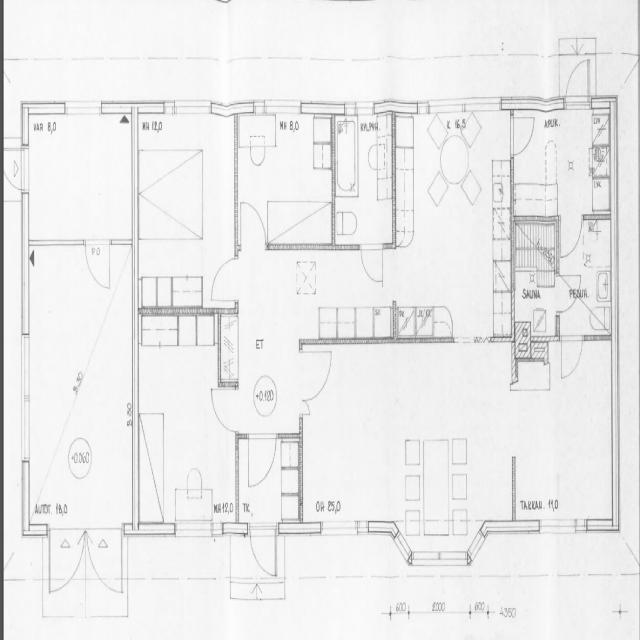door: (247, 431, 279, 576), (298, 340, 336, 405), (244, 430, 279, 490), (247, 518, 280, 578), (236, 192, 270, 250), (562, 54, 594, 111), (208, 251, 241, 306), (507, 106, 538, 160), (82, 236, 113, 290), (209, 383, 239, 432), (358, 239, 387, 288), (4, 143, 30, 194), (558, 332, 585, 381), (557, 212, 584, 260), (554, 272, 580, 316)
window: (409, 544, 472, 572), (423, 94, 492, 116), (388, 522, 417, 570), (511, 92, 562, 115), (317, 516, 363, 539), (465, 521, 489, 565), (167, 97, 211, 119), (173, 518, 215, 540), (537, 516, 580, 537), (264, 96, 304, 117), (343, 96, 377, 120), (63, 98, 103, 118)
zone: (22, 240, 140, 538), (393, 104, 512, 339), (136, 312, 236, 531), (136, 108, 237, 309), (512, 346, 616, 529), (22, 110, 138, 242), (235, 108, 333, 248), (511, 104, 614, 216), (333, 109, 395, 248), (234, 326, 302, 432), (558, 215, 613, 337), (512, 271, 558, 347), (512, 217, 558, 274)
